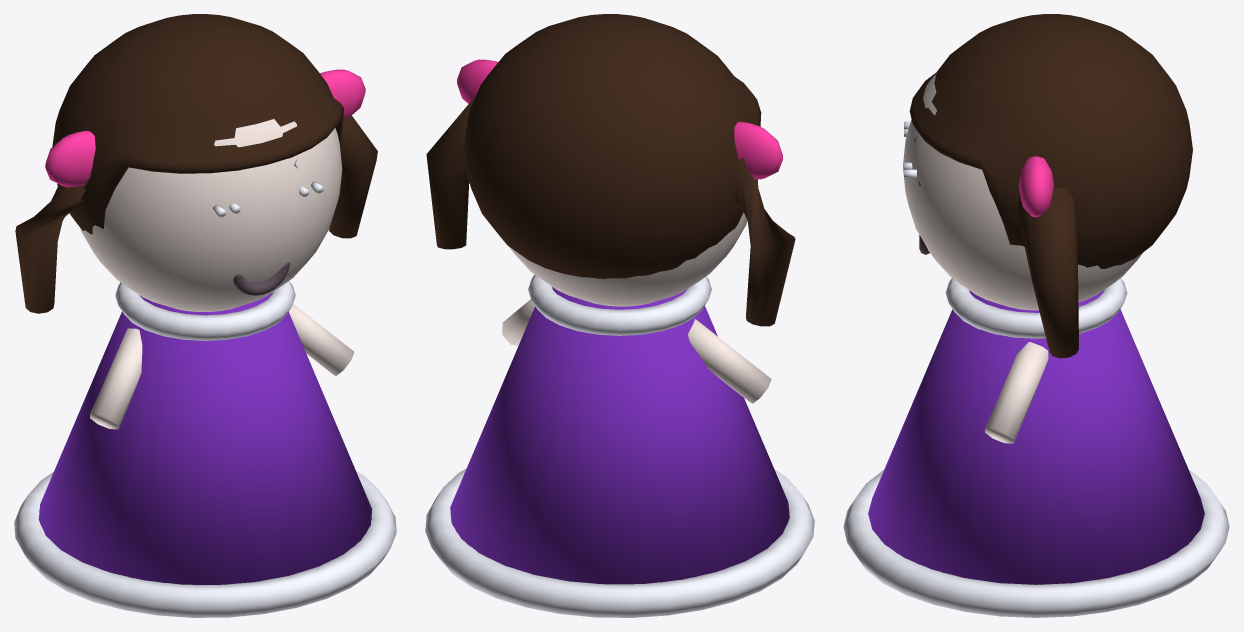
The model's file is H13_DollyDread.fbx.
3 renders of one model, left to right at view 1: azimuth 30°, elevation 25°; view 2: azimuth 150°, elevation 25°; view 3: azimuth 270°, elevation 25°, orthographic.
Visible parts, largest first — view 1: H13_DollyDread__Dress, H13_DollyDread__Hair, H13_DollyDread__Face, H13_DollyDread__Frill, H13_DollyDread__Bow, H13_DollyDread__Crack; view 2: H13_DollyDread__Hair, H13_DollyDread__Dress, H13_DollyDread__Frill, H13_DollyDread__Face, H13_DollyDread__Bow; view 3: H13_DollyDread__Dress, H13_DollyDread__Hair, H13_DollyDread__Frill, H13_DollyDread__Face, H13_DollyDread__Bow.
Part boxes in pixels (x1=…): H13_DollyDread__Dress: x1=38, y1=292, x2=372, y2=584; H13_DollyDread__Hair: x1=15, y1=14, x2=377, y2=313; H13_DollyDread__Face: x1=80, y1=119, x2=354, y2=429; H13_DollyDread__Frill: x1=14, y1=181, x2=396, y2=617; H13_DollyDread__Bow: x1=45, y1=69, x2=365, y2=187; H13_DollyDread__Crack: x1=233, y1=160, x2=298, y2=295; H13_DollyDread__Hair: x1=426, y1=14, x2=795, y2=326; H13_DollyDread__Dress: x1=450, y1=287, x2=789, y2=584; H13_DollyDread__Frill: x1=425, y1=274, x2=814, y2=617; H13_DollyDread__Face: x1=502, y1=212, x2=771, y2=403; H13_DollyDread__Bow: x1=457, y1=59, x2=782, y2=179; H13_DollyDread__Dress: x1=868, y1=290, x2=1204, y2=584; H13_DollyDread__Hair: x1=909, y1=14, x2=1192, y2=358; H13_DollyDread__Frill: x1=843, y1=121, x2=1229, y2=617; H13_DollyDread__Face: x1=903, y1=73, x2=1142, y2=443; H13_DollyDread__Bow: x1=1018, y1=156, x2=1054, y2=217.
Size of the model in its own units: 2.23 by 3.04 by 2.08.
